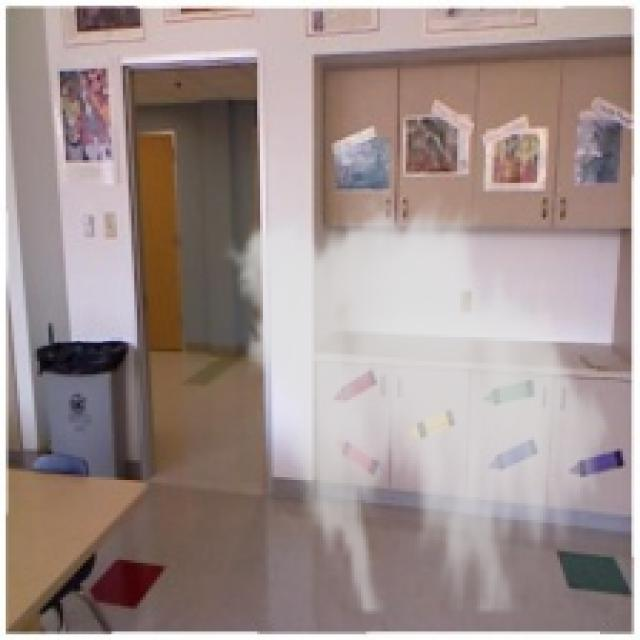smoke: (217, 189, 620, 614)
